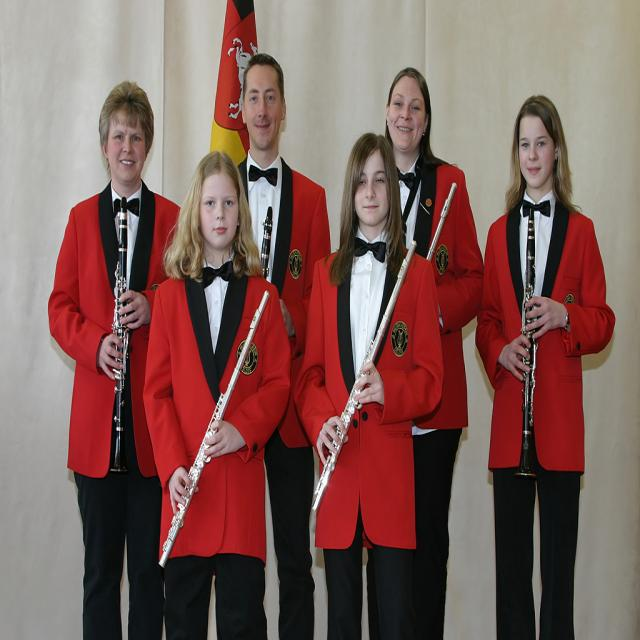clarinet: (108, 192, 132, 476), (517, 204, 540, 482), (257, 203, 274, 283)
